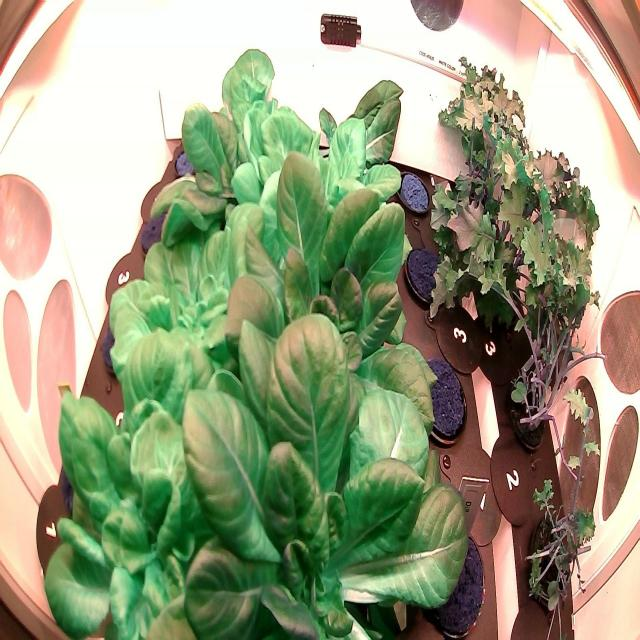pod: (416, 518, 493, 640), (407, 345, 472, 454), (399, 233, 456, 315), (138, 196, 194, 277), (395, 165, 436, 224)
young: (170, 303, 472, 636), (205, 144, 448, 444), (39, 379, 208, 636), (227, 92, 412, 262), (107, 216, 253, 418), (141, 91, 286, 249), (290, 56, 411, 187), (196, 39, 301, 161)
